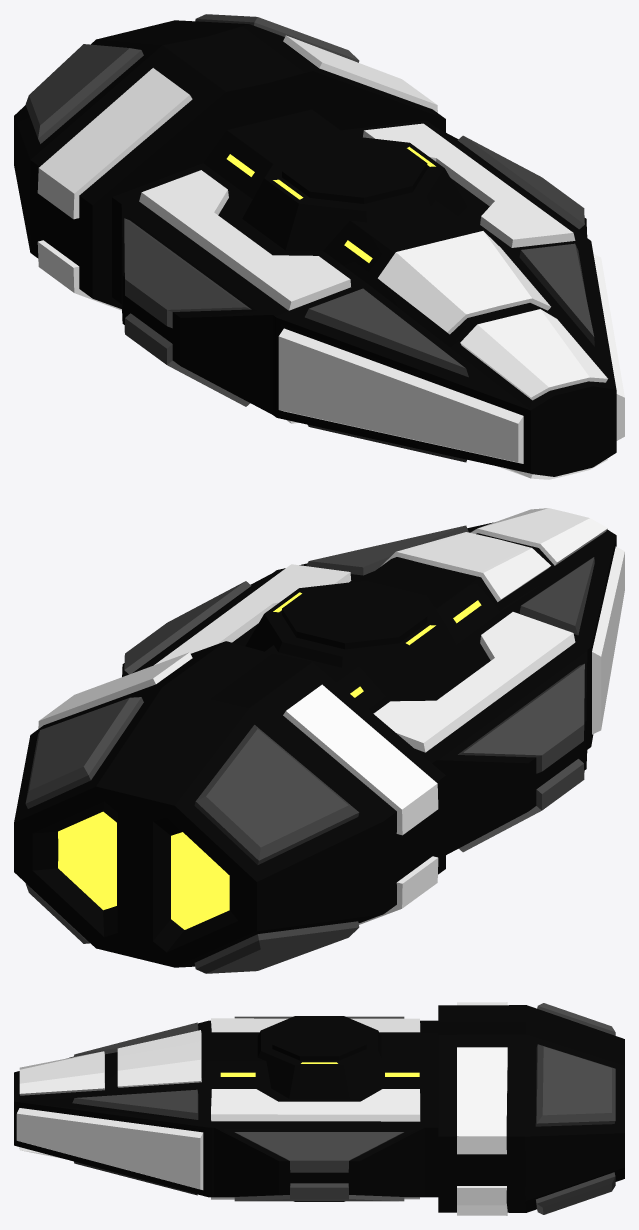
Rendered from 01_ship_medium_reyden.glb.
3 renders of one model, top to bottom at view 1: azimuth 30°, elevation 25°; view 2: azimuth 150°, elevation 25°; view 3: azimuth 270°, elevation 25°, orthographic. The views are drawn at different scales.
Parts seen in each view (by area): view 1: 01_ship_medium_reyden; view 2: 01_ship_medium_reyden; view 3: 01_ship_medium_reyden.
Part boxes in pixels (<box>): 01_ship_medium_reyden: <box>14,14,624,479</box>; 01_ship_medium_reyden: <box>14,508,624,973</box>; 01_ship_medium_reyden: <box>14,1002,624,1215</box>.
Size of the model in its own units: 0.5495 by 0.3218 by 1.
